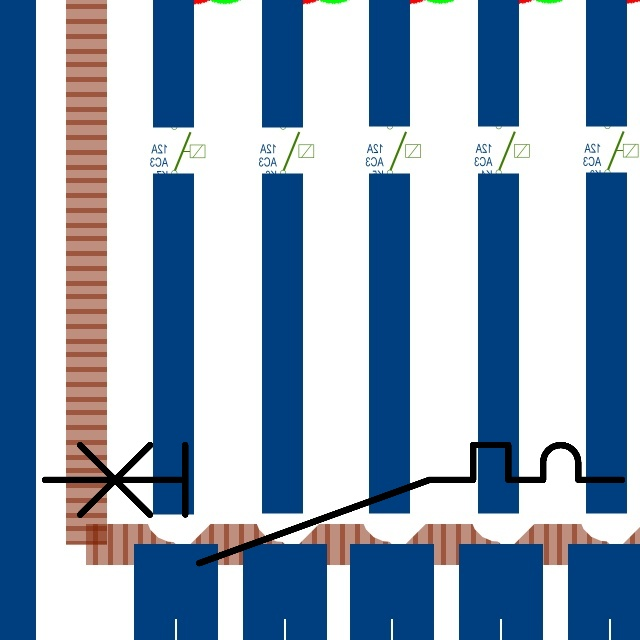interruptor_termomagnetico: (30, 430, 637, 578)
